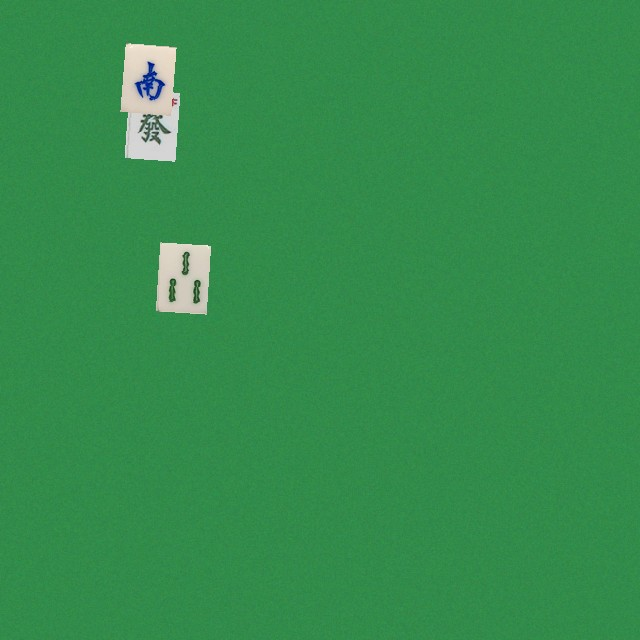tile: (155, 242, 206, 311), (124, 89, 175, 158), (120, 43, 171, 112)
